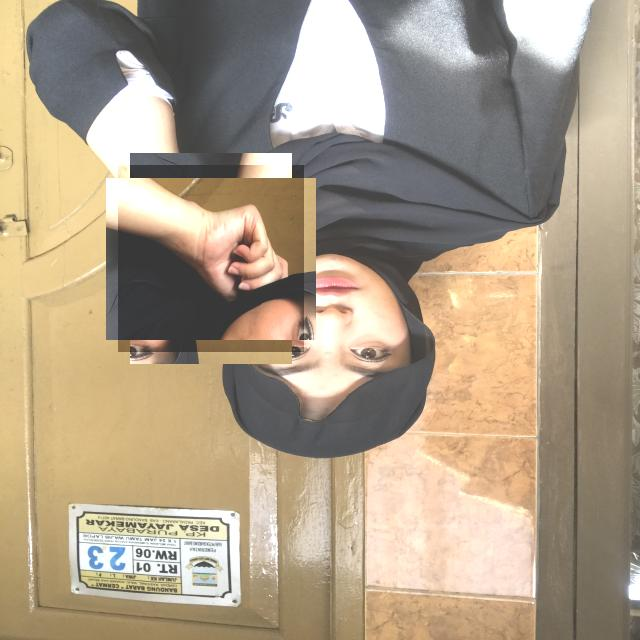ibu: (118, 165, 304, 352), (130, 358, 132, 364)
